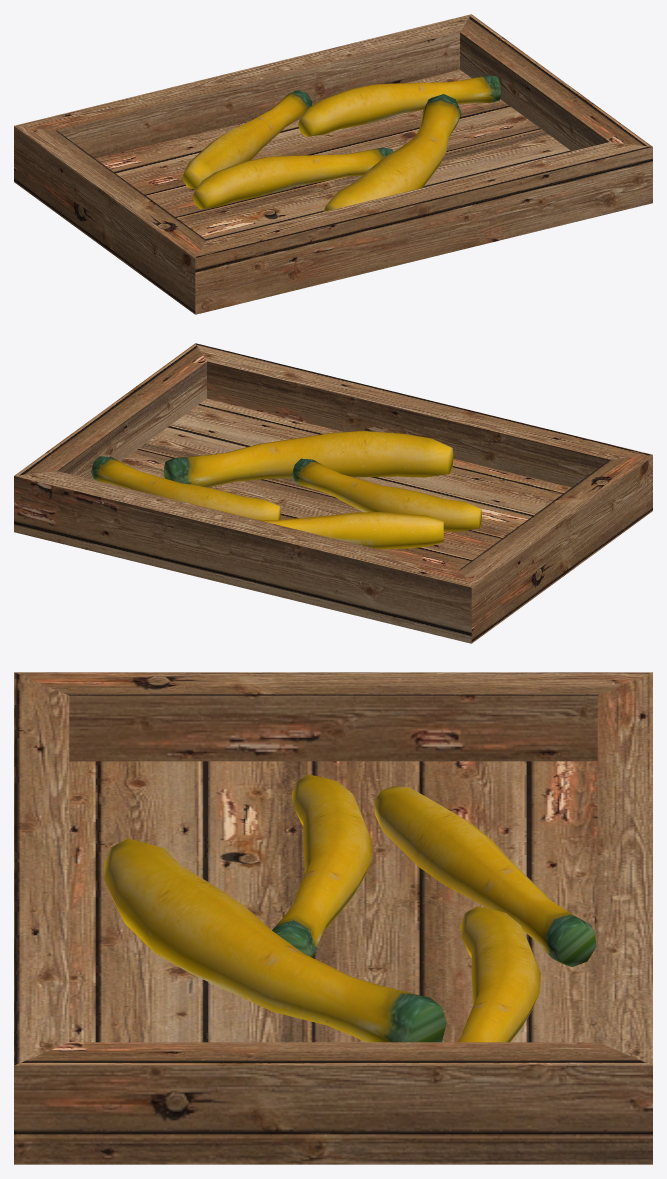
Rendered from fruit_veg5.fbx.
3 renders of one model, top to bottom at view 1: azimuth 30°, elevation 25°; view 2: azimuth 150°, elevation 25°; view 3: azimuth 270°, elevation 25°, orthographic. The views are drawn at different scales.
Visible parts, largest first — view 1: fruit_veg1; view 2: fruit_veg1; view 3: fruit_veg1.
Part boxes in pixels (bbox=[...]): fruit_veg1: bbox=[14, 14, 652, 314]; fruit_veg1: bbox=[14, 343, 652, 643]; fruit_veg1: bbox=[14, 672, 652, 1164].
Bounding box in the file's own units: 35.19 × 4.13 × 24.16.
